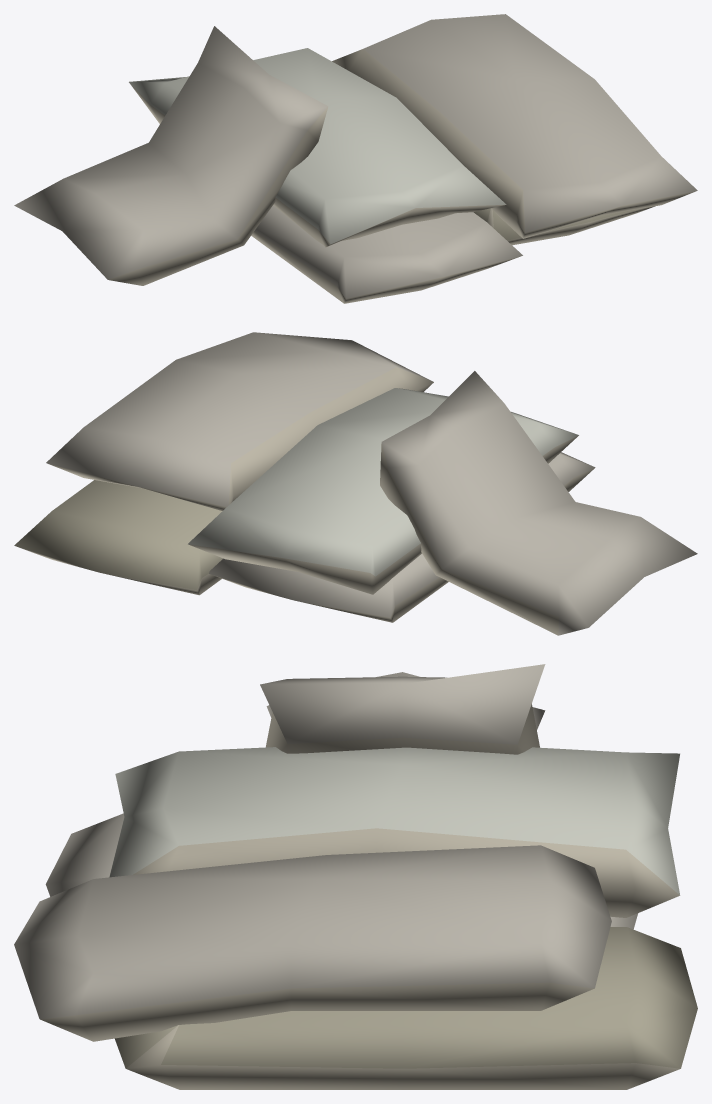
Rendered from scene_heV7qqajLo.glb.
3 views of the same model, one above another, from view 1: azimuth 30°, elevation 25°; view 2: azimuth 150°, elevation 25°; view 3: azimuth 270°, elevation 25° (orthographic). The views are drawn at different scales.
Visible parts, largest first — view 1: sack; view 2: sack; view 3: sack.
Part boxes in pixels (x1,y1,x2,y2): sack: (14, 14, 697, 303); sack: (14, 332, 697, 635); sack: (14, 664, 697, 1089).
Bounding box in the file's own units: 1.62 × 0.5073 × 1.34.
Materials: 1 (1 with a texture image).
